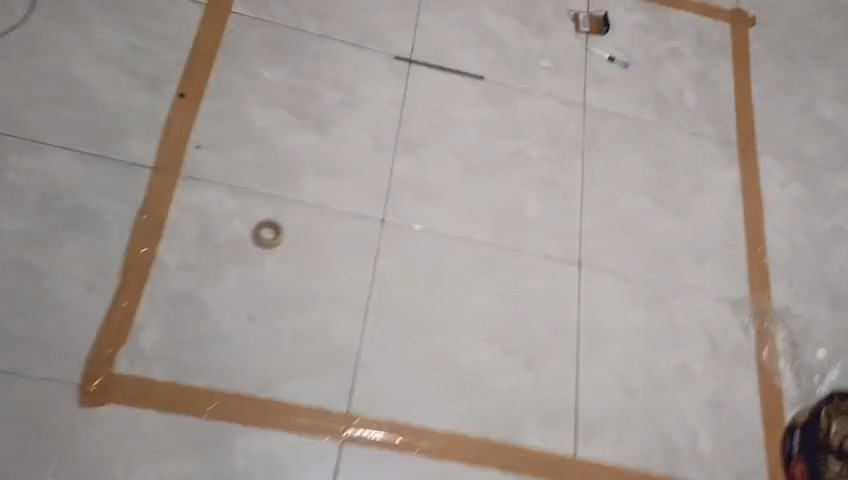floor marking: (79, 0, 667, 479), (657, 0, 784, 479)
